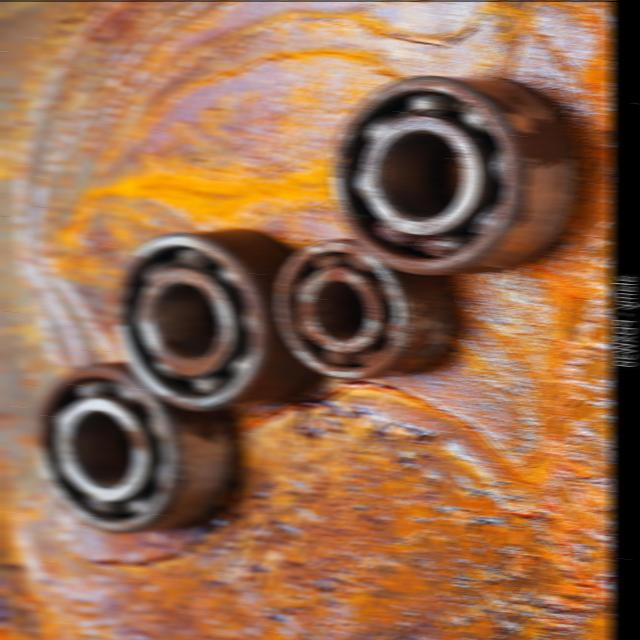Bearing: (327, 74, 583, 274), (110, 227, 316, 409), (30, 358, 234, 536), (272, 237, 456, 381)
